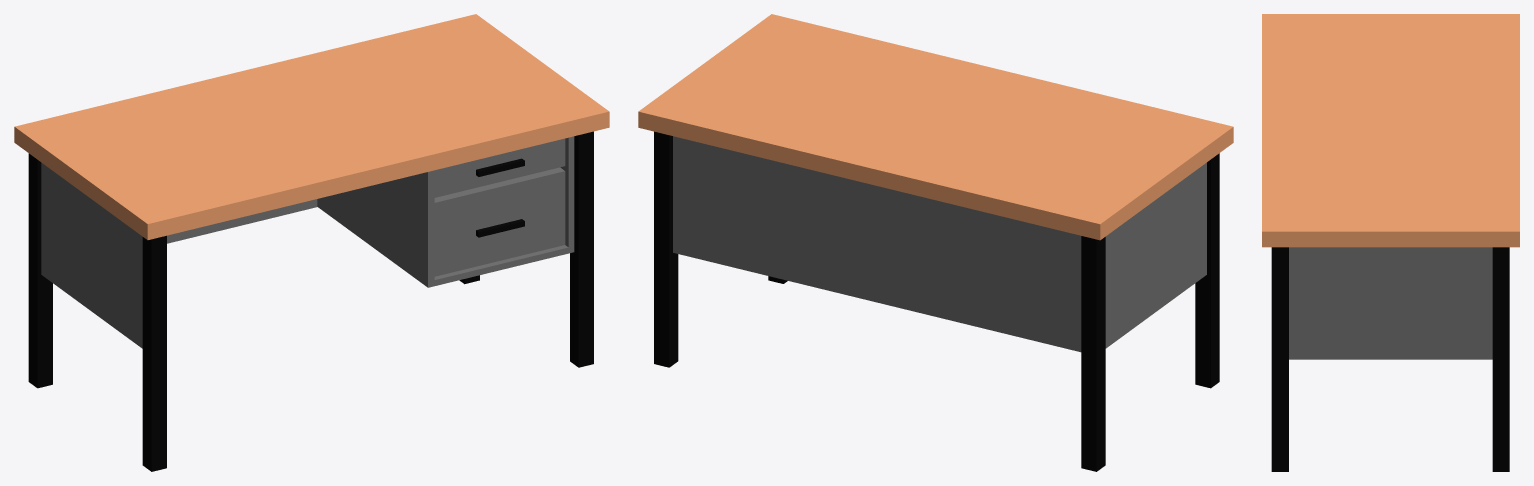
Rendered from table.fbx.
3 renders of one model, left to right at view 1: azimuth 30°, elevation 25°; view 2: azimuth 150°, elevation 25°; view 3: azimuth 270°, elevation 25°, orthographic. The views are drawn at different scales.
Visible parts, largest first — view 1: Cube, Cube.005, Cube.001, Cube.007, Cube.009; view 2: Cube, Cube.007, Cube.001; view 3: Cube, Cube.005, Cube.001.
Part boxes in pixels (<box>): Cube: <box>14,14,609,239</box>; Cube.005: <box>317,136,574,287</box>; Cube.001: <box>28,131,593,471</box>; Cube.007: <box>41,162,317,348</box>; Cube.009: <box>476,158,524,237</box>; Cube: <box>638,14,1233,240</box>; Cube.007: <box>673,136,1206,352</box>; Cube.001: <box>654,131,1219,471</box>; Cube: <box>1262,14,1519,247</box>; Cube.005: <box>1289,247,1492,359</box>; Cube.001: <box>1271,247,1509,471</box>.
Size of the model in its own units: 600 by 315 by 300.
